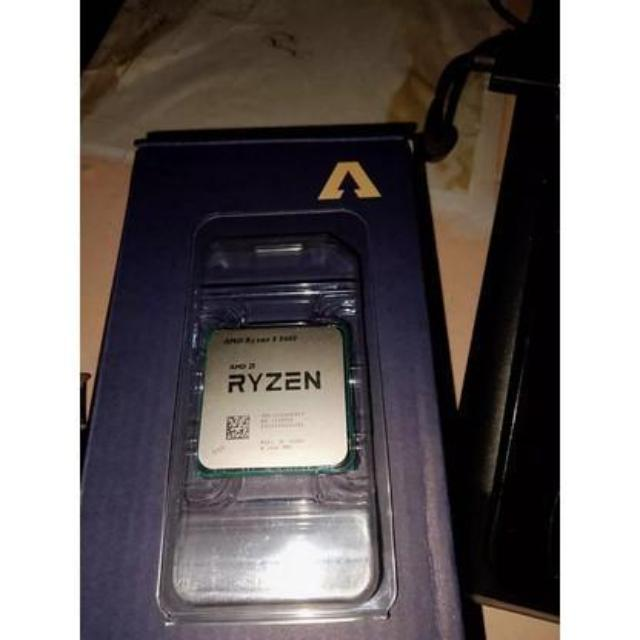CPU: (198, 328, 350, 466)
